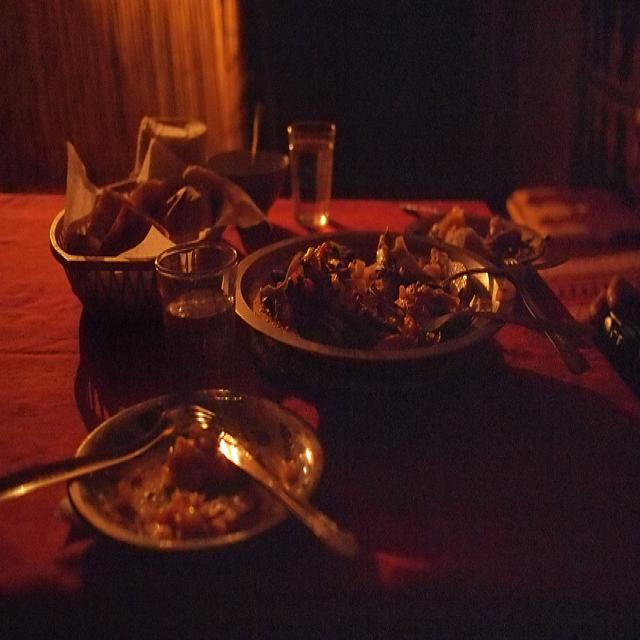Cup: (138, 239, 249, 384), (288, 111, 345, 224)
Table: (0, 177, 639, 639)
